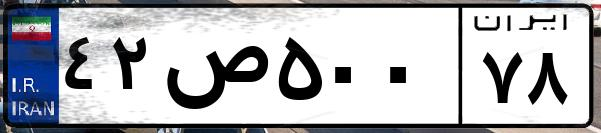0: (385, 28, 445, 110), (330, 28, 385, 110)
2: (110, 28, 158, 98)
4: (57, 26, 110, 100)
5: (270, 28, 330, 110)
7: (475, 38, 525, 113)
8: (525, 38, 570, 115)
ص: (158, 20, 270, 120)
